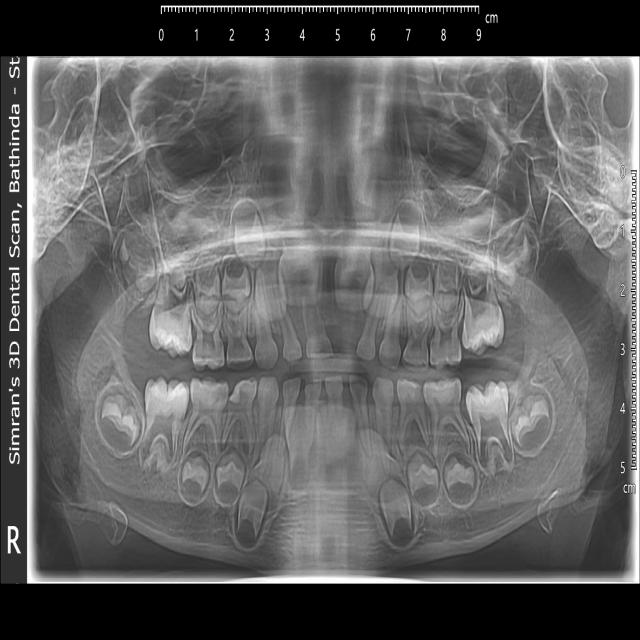Filling: (232, 379, 251, 403)
